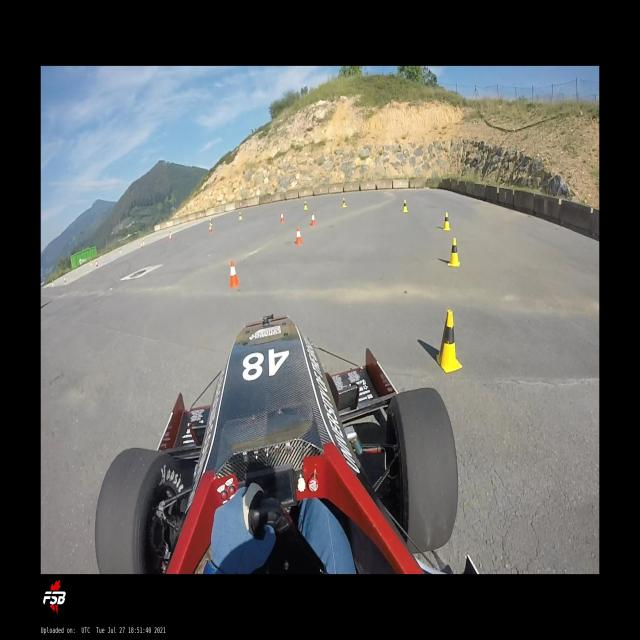orange_cone: (229, 260, 239, 288), (295, 227, 303, 245), (311, 212, 316, 225), (209, 223, 213, 234), (280, 212, 284, 222), (95, 260, 98, 268), (170, 233, 172, 241), (141, 242, 143, 249), (64, 277, 66, 283)
yellow_cone: (436, 310, 462, 373), (448, 238, 460, 266), (442, 212, 450, 230), (402, 199, 408, 212), (342, 197, 347, 208), (304, 200, 308, 210), (239, 212, 242, 220), (142, 238, 145, 245), (210, 218, 212, 225), (119, 247, 121, 253), (170, 230, 172, 236), (90, 260, 92, 265)
